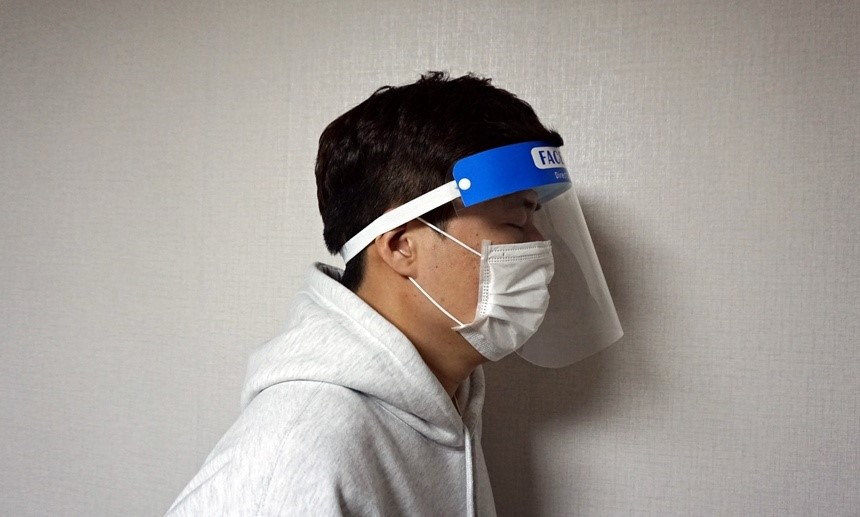face_with_mask: (319, 78, 560, 366)
